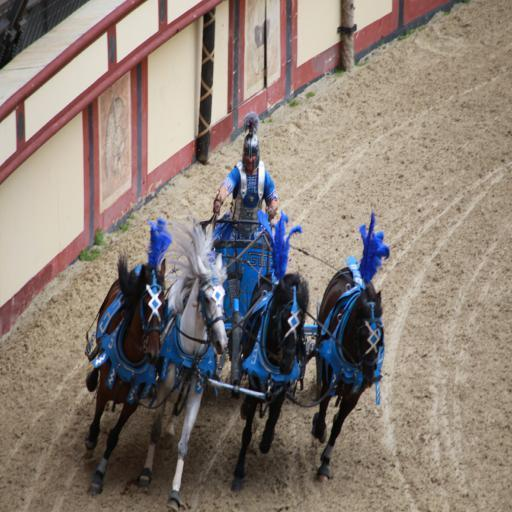horse: (138, 215, 230, 512), (82, 220, 166, 491), (238, 202, 312, 491), (314, 204, 386, 482)
